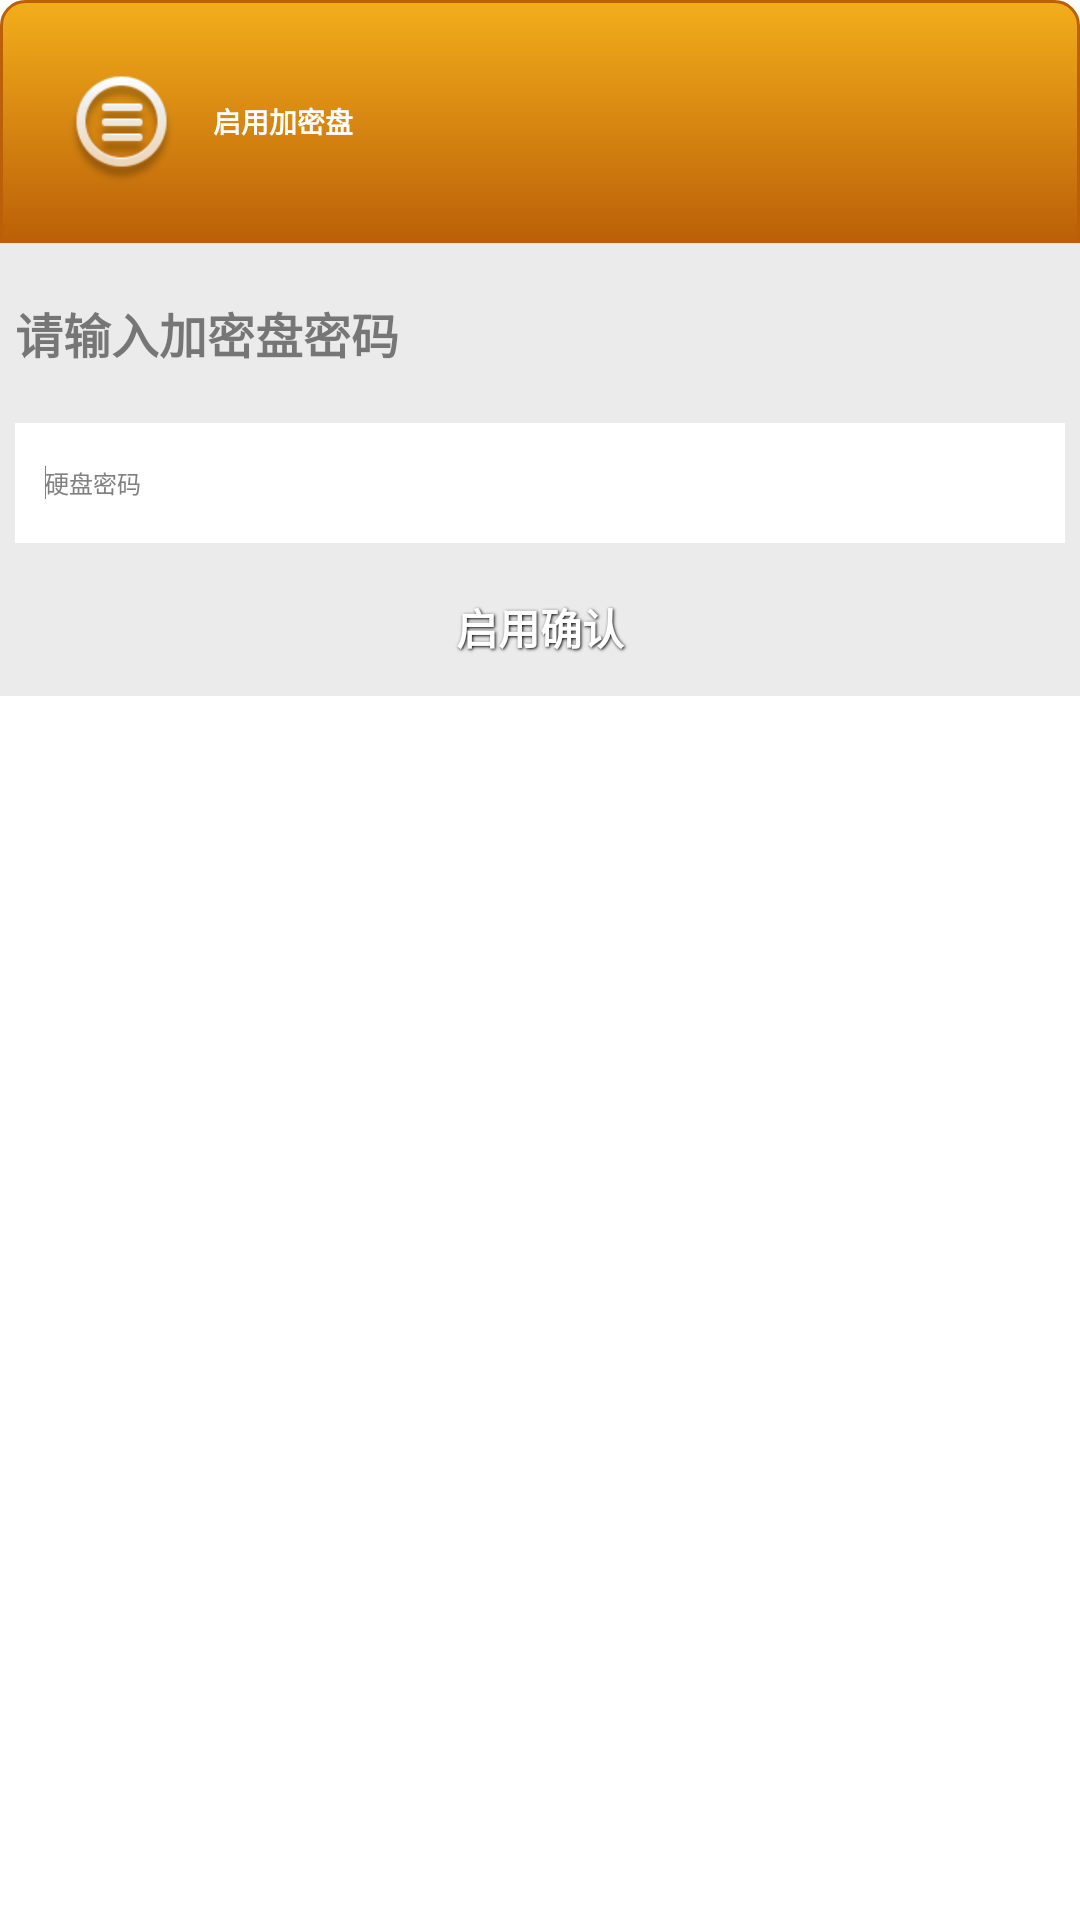

Named icons in this screenshot (1080×1920) and their centers, (x,y):
bookshelf menu: (121,121)
